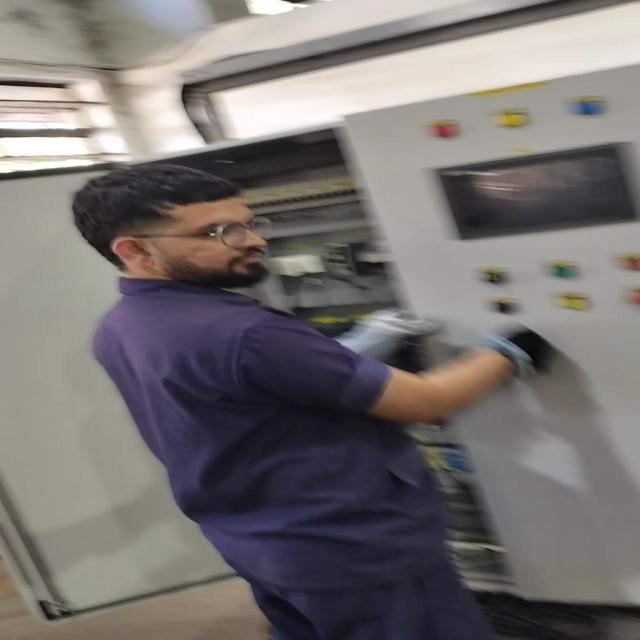Gloves-Detection: (333, 305, 413, 353), (476, 331, 550, 369)
